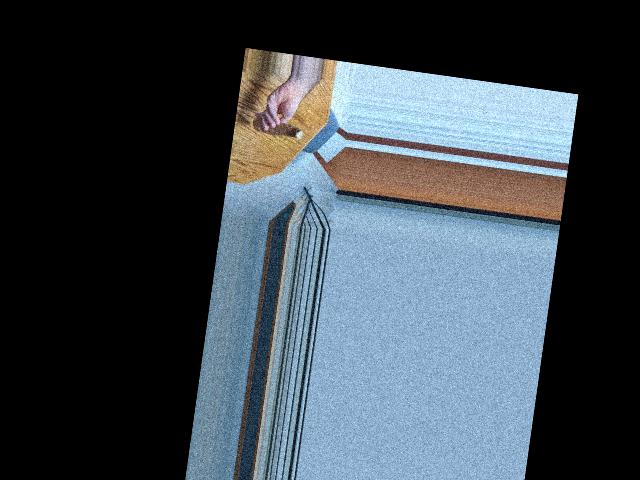sweet_potato: (260, 121, 305, 138)
